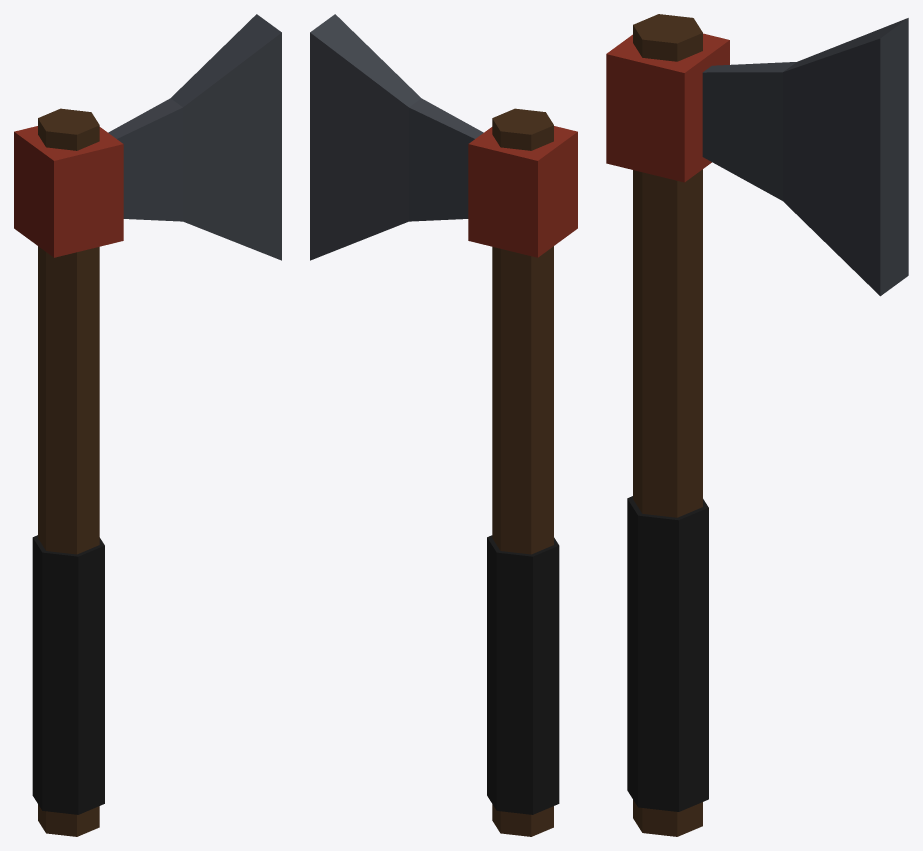
Rendered from weapon_twin_khopesh.glb.
3 renders of one model, left to right at view 1: azimuth 30°, elevation 25°; view 2: azimuth 150°, elevation 25°; view 3: azimuth 330°, elevation 25°, orthographic. The views are drawn at different scales.
Visible parts, largest first — view 1: orc_weapon_twin_khopesh; view 2: orc_weapon_twin_khopesh; view 3: orc_weapon_twin_khopesh.
Boxes of the visible parts, left/top/right/bottom form: orc_weapon_twin_khopesh: left=14, top=14, right=281, bottom=836; orc_weapon_twin_khopesh: left=310, top=14, right=577, bottom=836; orc_weapon_twin_khopesh: left=606, top=14, right=908, bottom=836.
Size of the model in its own units: 0.183 by 0.5589 by 0.054.
